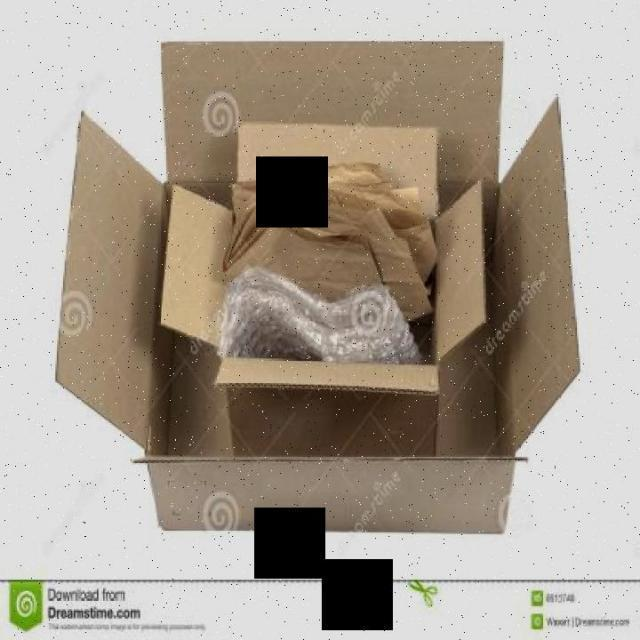box: (53, 37, 585, 546)
